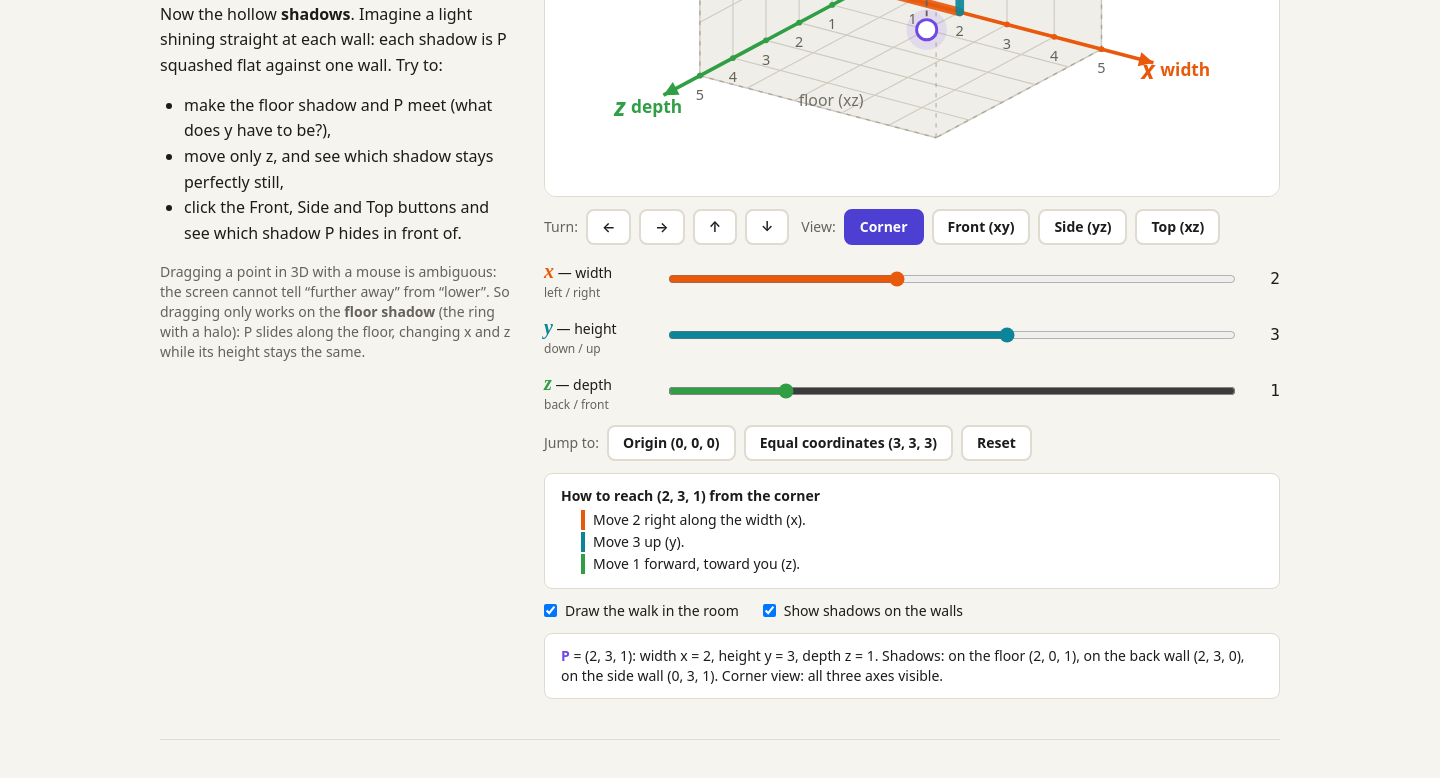
Scenario: 3D space lesson › sliders move the point, and the shadows follow
The width and height of the screenshot is (1440, 778).
(page scrolled)
Set the slider named "z coordinate" to "4.5" at [1173, 391], box [668,383,1236,399]
(page scrolled)
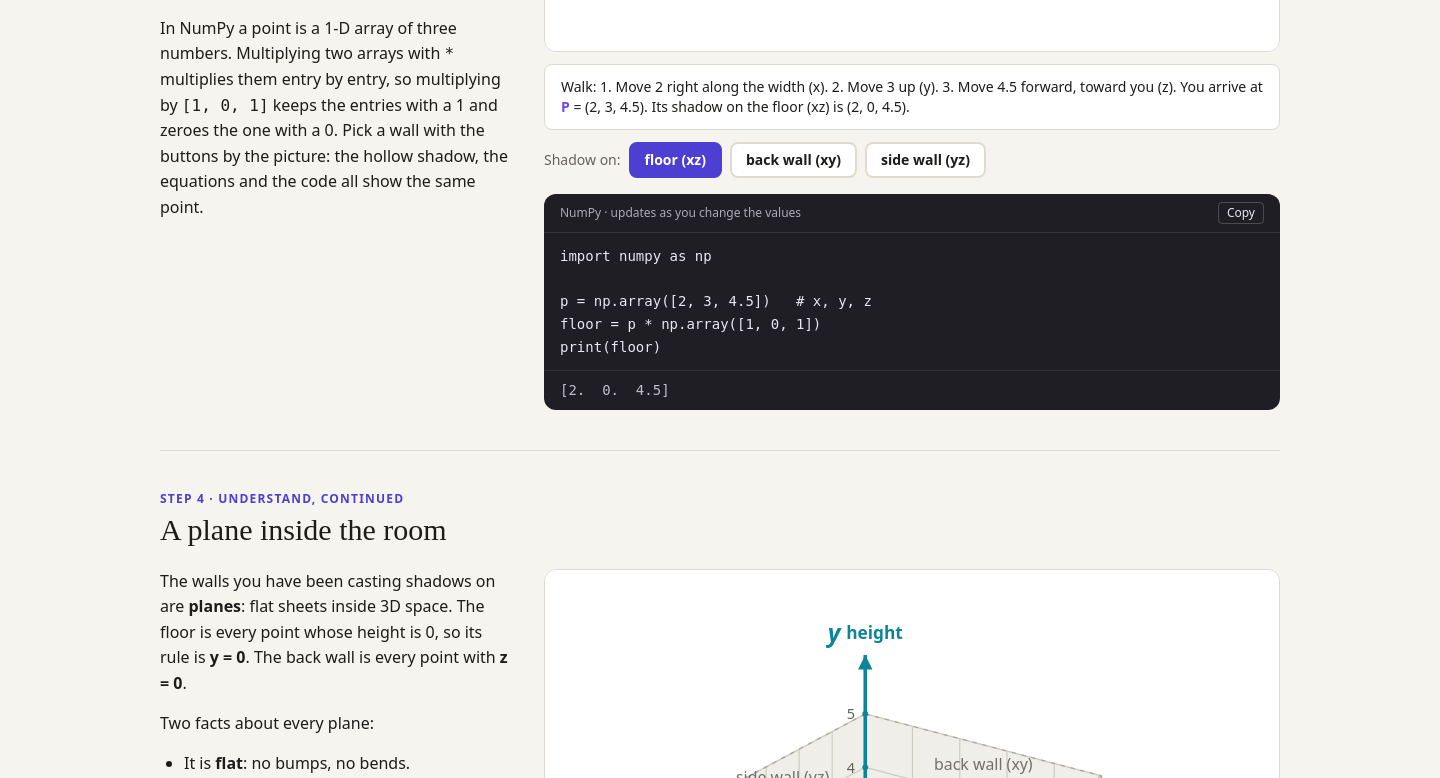
Now the text named "Output" reads "[2. 0. 4.5]", box [560,382,670,398]
